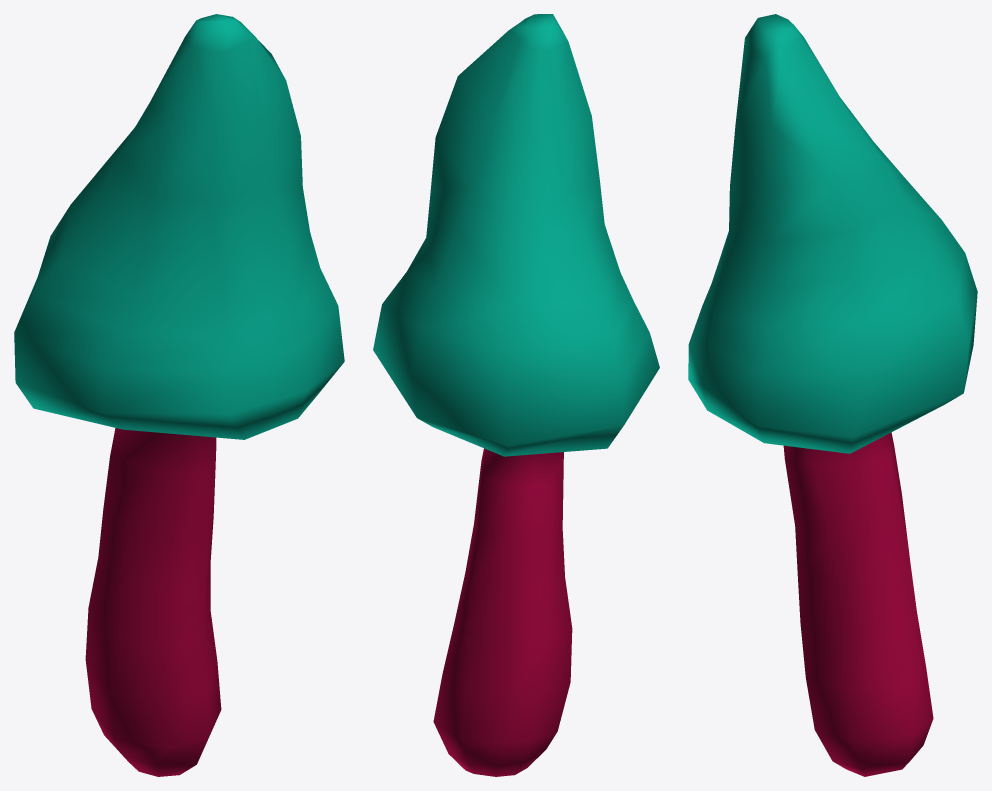
File: HongoDecorativo3_LOWPOLY.fbx
3 views of the same model, side by side, from view 1: azimuth 30°, elevation 25°; view 2: azimuth 150°, elevation 25°; view 3: azimuth 270°, elevation 25° (orthographic). The views are drawn at different scales.
Visible parts, largest first — view 1: HongoDecorativo3_LOWPOLY:HongoDecorativo3_LOW; view 2: HongoDecorativo3_LOWPOLY:HongoDecorativo3_LOW; view 3: HongoDecorativo3_LOWPOLY:HongoDecorativo3_LOW.
Boxes of the visible parts, box(x1,y1,x2,y2) form: HongoDecorativo3_LOWPOLY:HongoDecorativo3_LOW: box(14, 14, 344, 776); HongoDecorativo3_LOWPOLY:HongoDecorativo3_LOW: box(373, 14, 659, 776); HongoDecorativo3_LOWPOLY:HongoDecorativo3_LOW: box(688, 14, 977, 776).
Bounding box in the file's own units: 40.39 × 105 × 36.8.
